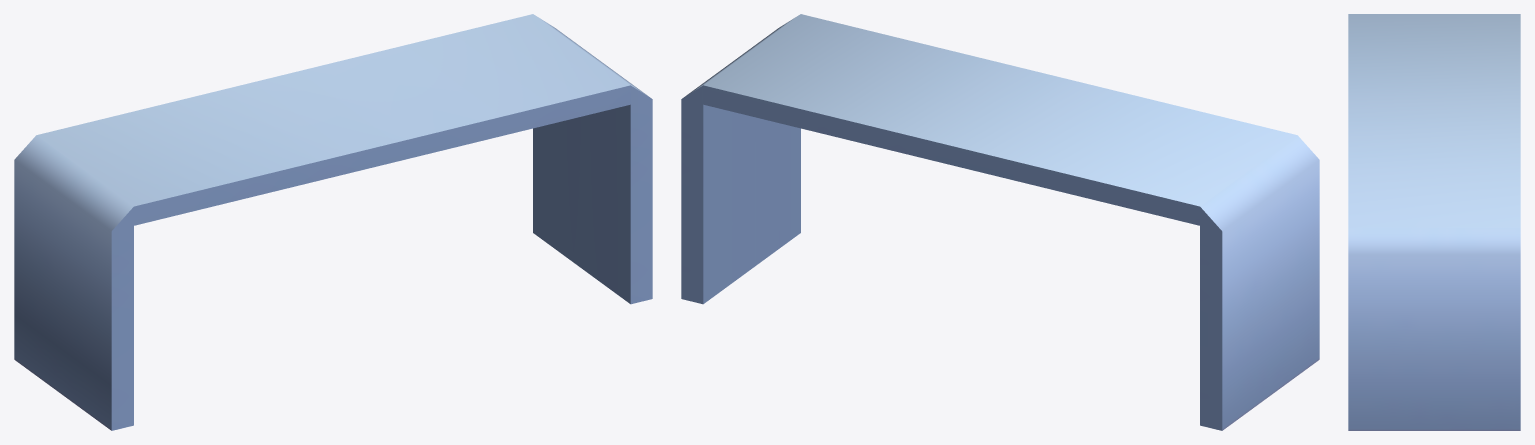
Rendered from IceCreamHolder_01.FBX.
The picture shows the model from 3 angles, left to right: view 1: azimuth 30°, elevation 25°; view 2: azimuth 150°, elevation 25°; view 3: azimuth 270°, elevation 25°; orthographic projection. The views are drawn at different scales.
Visible parts, largest first — view 1: IceCreamHolder_01; view 2: IceCreamHolder_01; view 3: IceCreamHolder_01.
Boxes of the visible parts, x1,y1,x2,y2 form: IceCreamHolder_01: (14, 14, 652, 430); IceCreamHolder_01: (681, 14, 1319, 430); IceCreamHolder_01: (1348, 14, 1520, 430).
Bounding box in the file's own units: 0.65 × 0.2029 × 0.2514.
